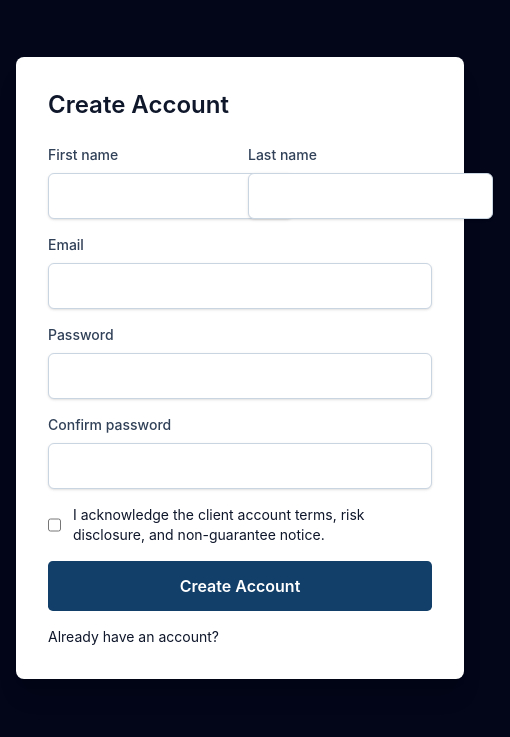
Test case: client account pages › registers a client with required risk and terms acknowledgement
The image size is (510, 737).
Step 1. Type "Ada" into the field labelled "First name" → x=170, y=196, box [48, 173, 293, 219]
Step 2. Type "Client" into the field labelled "Last name" → x=370, y=196, box [248, 173, 493, 219]
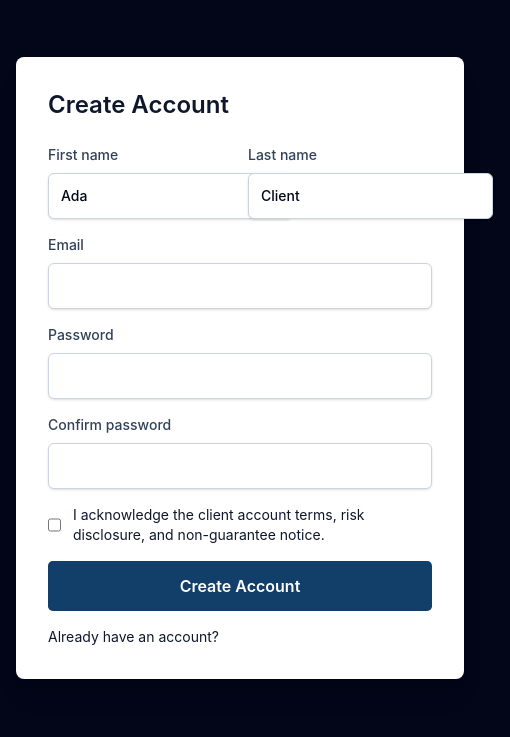
Step 3. Type "ada@example.test" into the field labelled "Email" → x=240, y=286, box [48, 263, 432, 309]
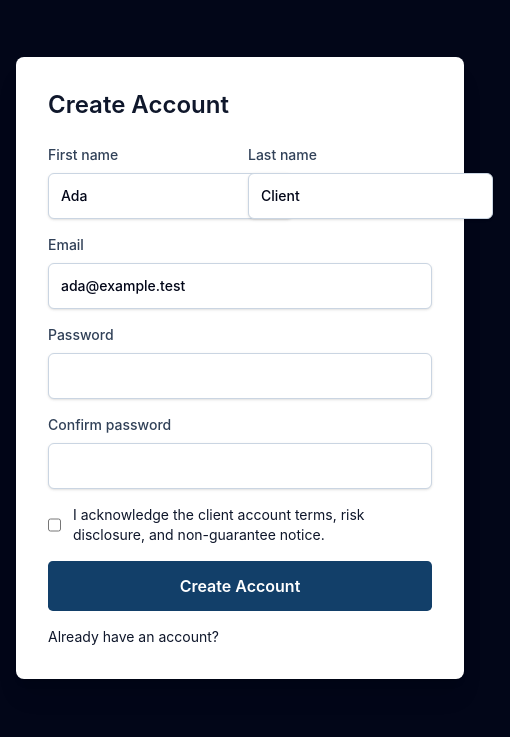
Step 4. Type "Secure-client-123" into the password field labelled "Password" → x=240, y=376, box [48, 353, 432, 399]
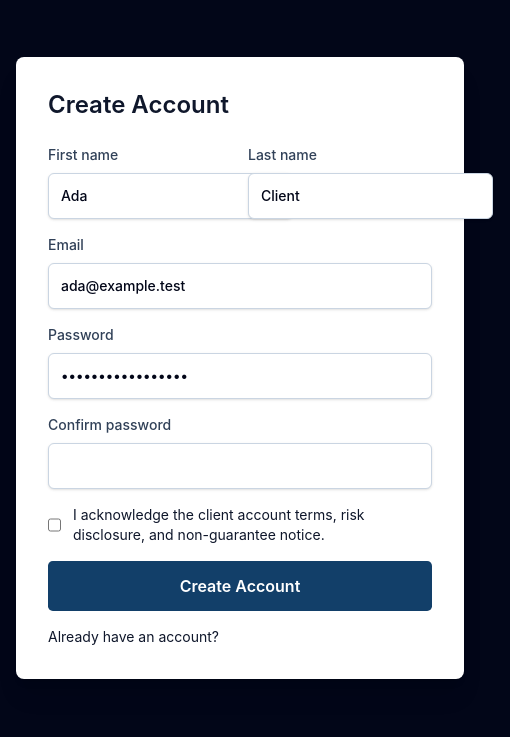
Step 5. Type "Secure-client-123" into the password field labelled "Confirm password" → x=240, y=466, box [48, 443, 432, 489]
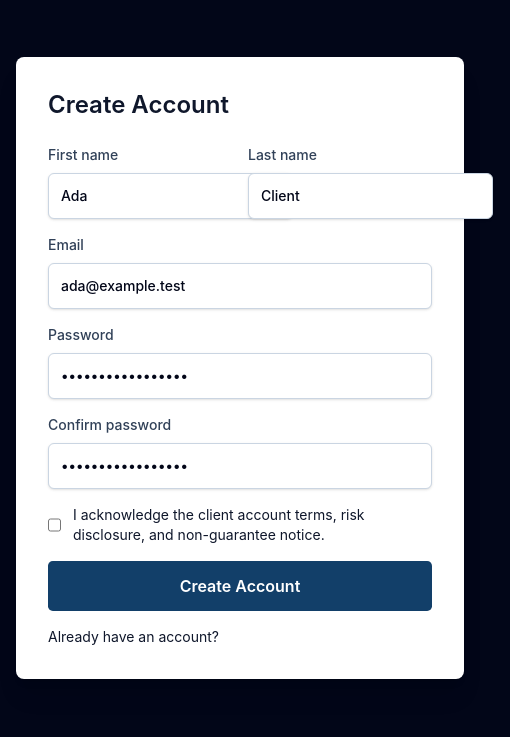
Step 6. Click the checkbox → x=54, y=525, box [48, 505, 61, 545]
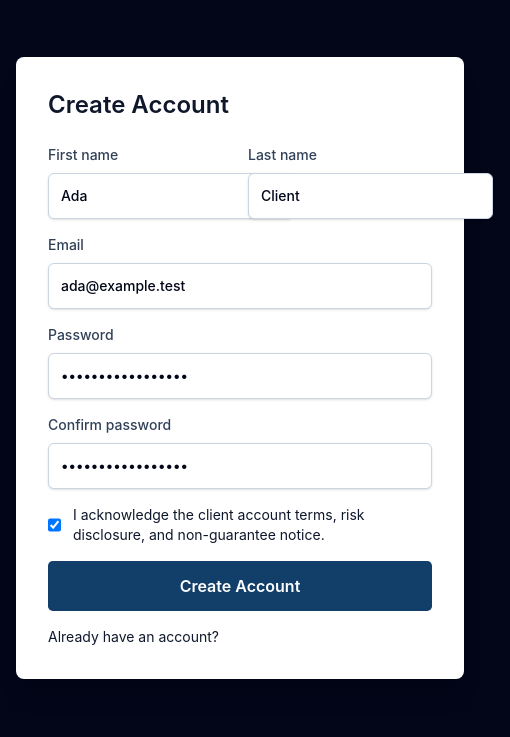
Step 7. Click the button "Create Account" → x=240, y=586, box [48, 561, 432, 611]
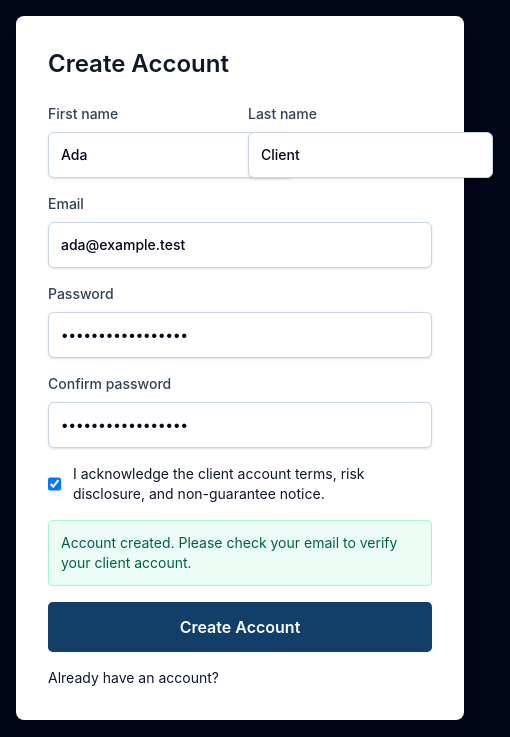
Now the text "check your email" is shown, box [61, 534, 397, 571]
